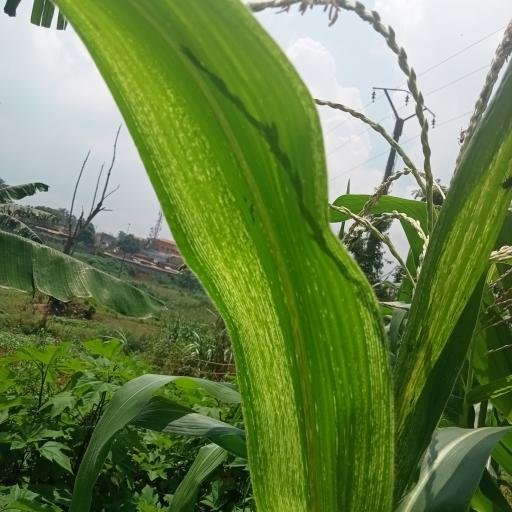Corn_Streak: (64, 0, 396, 506)
